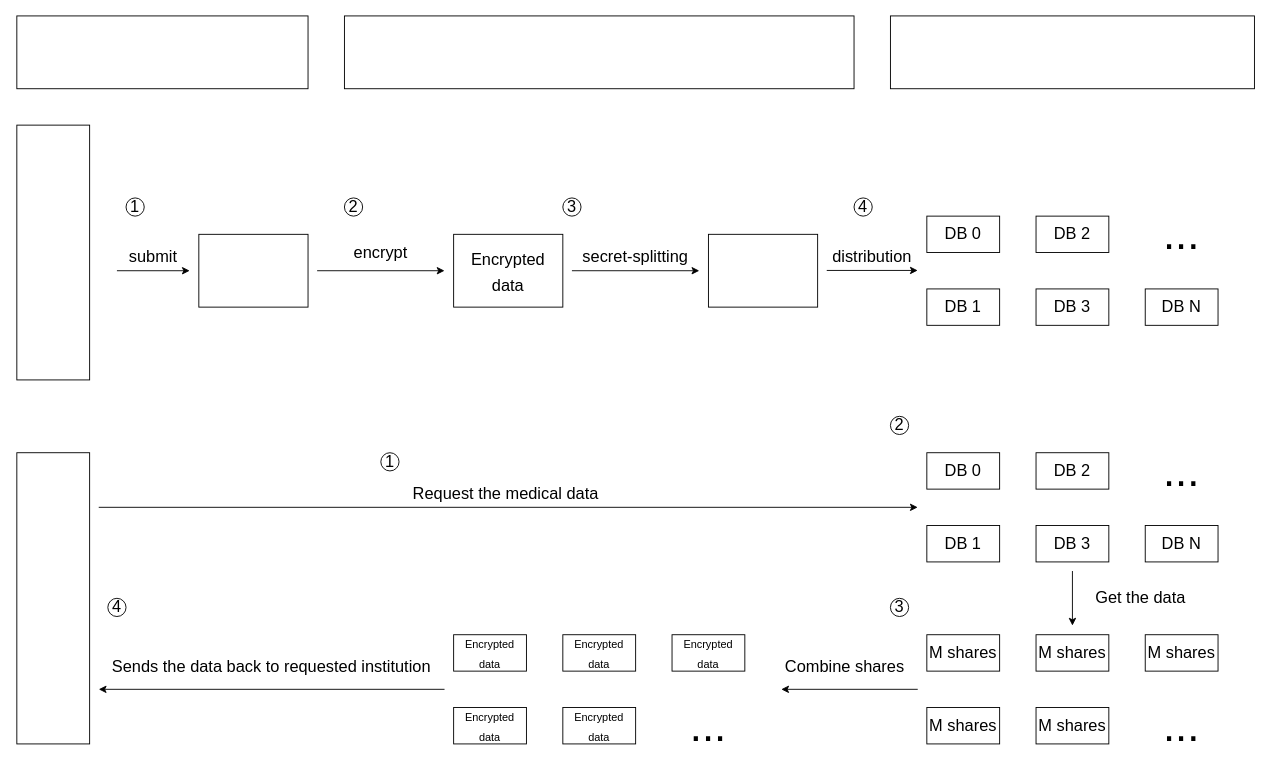
The diagram is 1270 pixels wide and 768 high, and some of its shapes have lost their labels. Each missing label, with the centre of its shape:
"Database" belongs at [1072,52].
"medical company or academic institution" belongs at [53,598].
"medical institution or patient" belongs at [53,252].
"N shares" belongs at [763,270].
"Raw Data" belongs at [253,270].
"System" belongs at [599,52].
"USER" belongs at [162,52].
